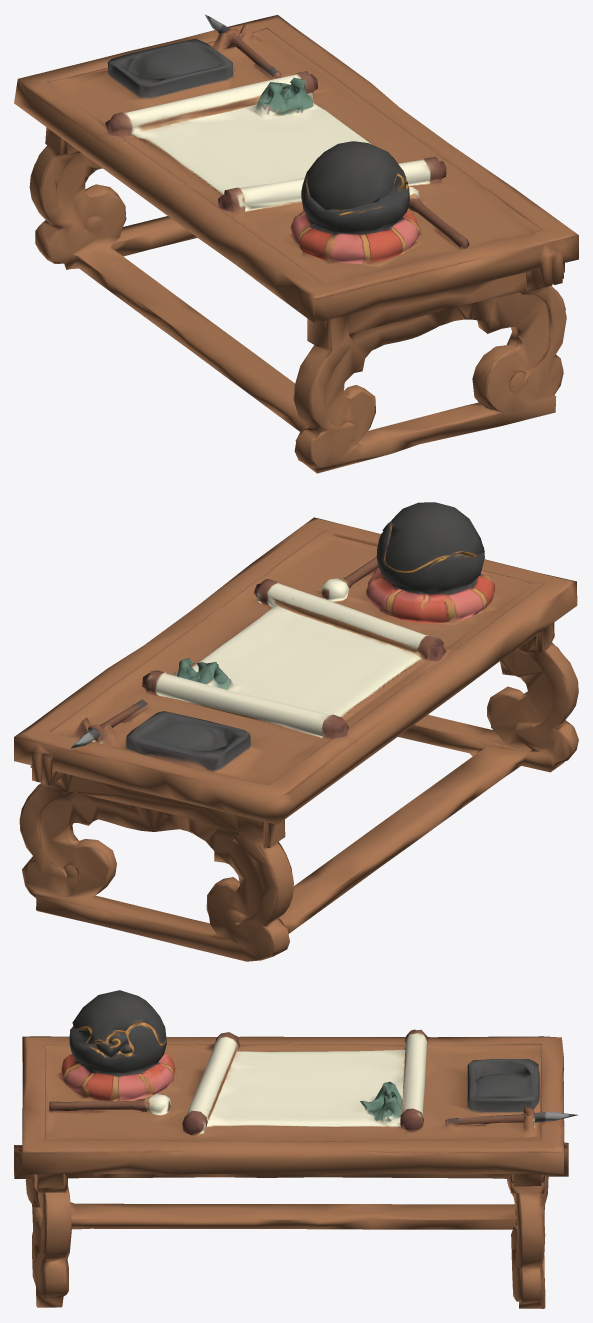
The model's file is desk_fish.glb.
The picture shows the model from 3 angles, top to bottom: view 1: azimuth 30°, elevation 25°; view 2: azimuth 150°, elevation 25°; view 3: azimuth 270°, elevation 25°; orthographic projection. The views are drawn at different scales.
Visible parts, largest first — view 1: tripo_node_d1fe2fcc-779f-4edd-9a63-a6481dccc07a; view 2: tripo_node_d1fe2fcc-779f-4edd-9a63-a6481dccc07a; view 3: tripo_node_d1fe2fcc-779f-4edd-9a63-a6481dccc07a.
Boxes of the visible parts, x1,y1,x2,y2 form: tripo_node_d1fe2fcc-779f-4edd-9a63-a6481dccc07a: (14, 14, 578, 473); tripo_node_d1fe2fcc-779f-4edd-9a63-a6481dccc07a: (14, 502, 578, 961); tripo_node_d1fe2fcc-779f-4edd-9a63-a6481dccc07a: (14, 990, 577, 1308).
Size of the model in its own units: 0.5171 by 0.4766 by 1.
Materials: 1 (1 with a texture image).
